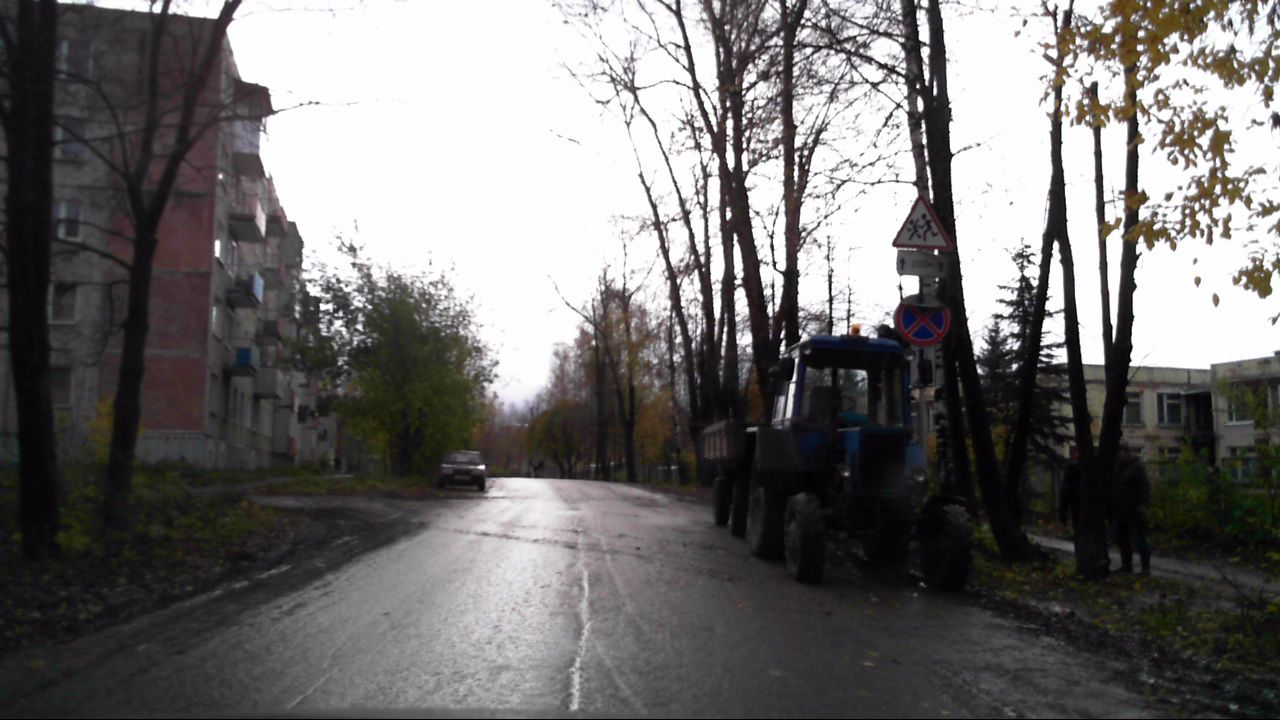No Parking: (893, 300, 952, 346)
